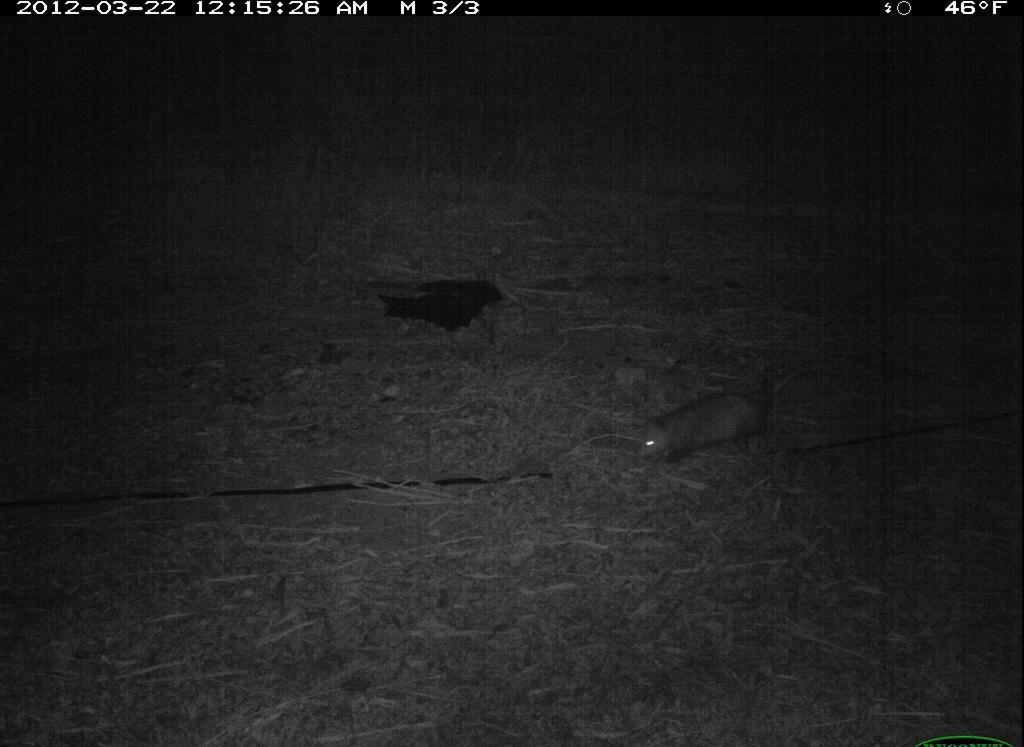opossum: (625, 356, 824, 474)
